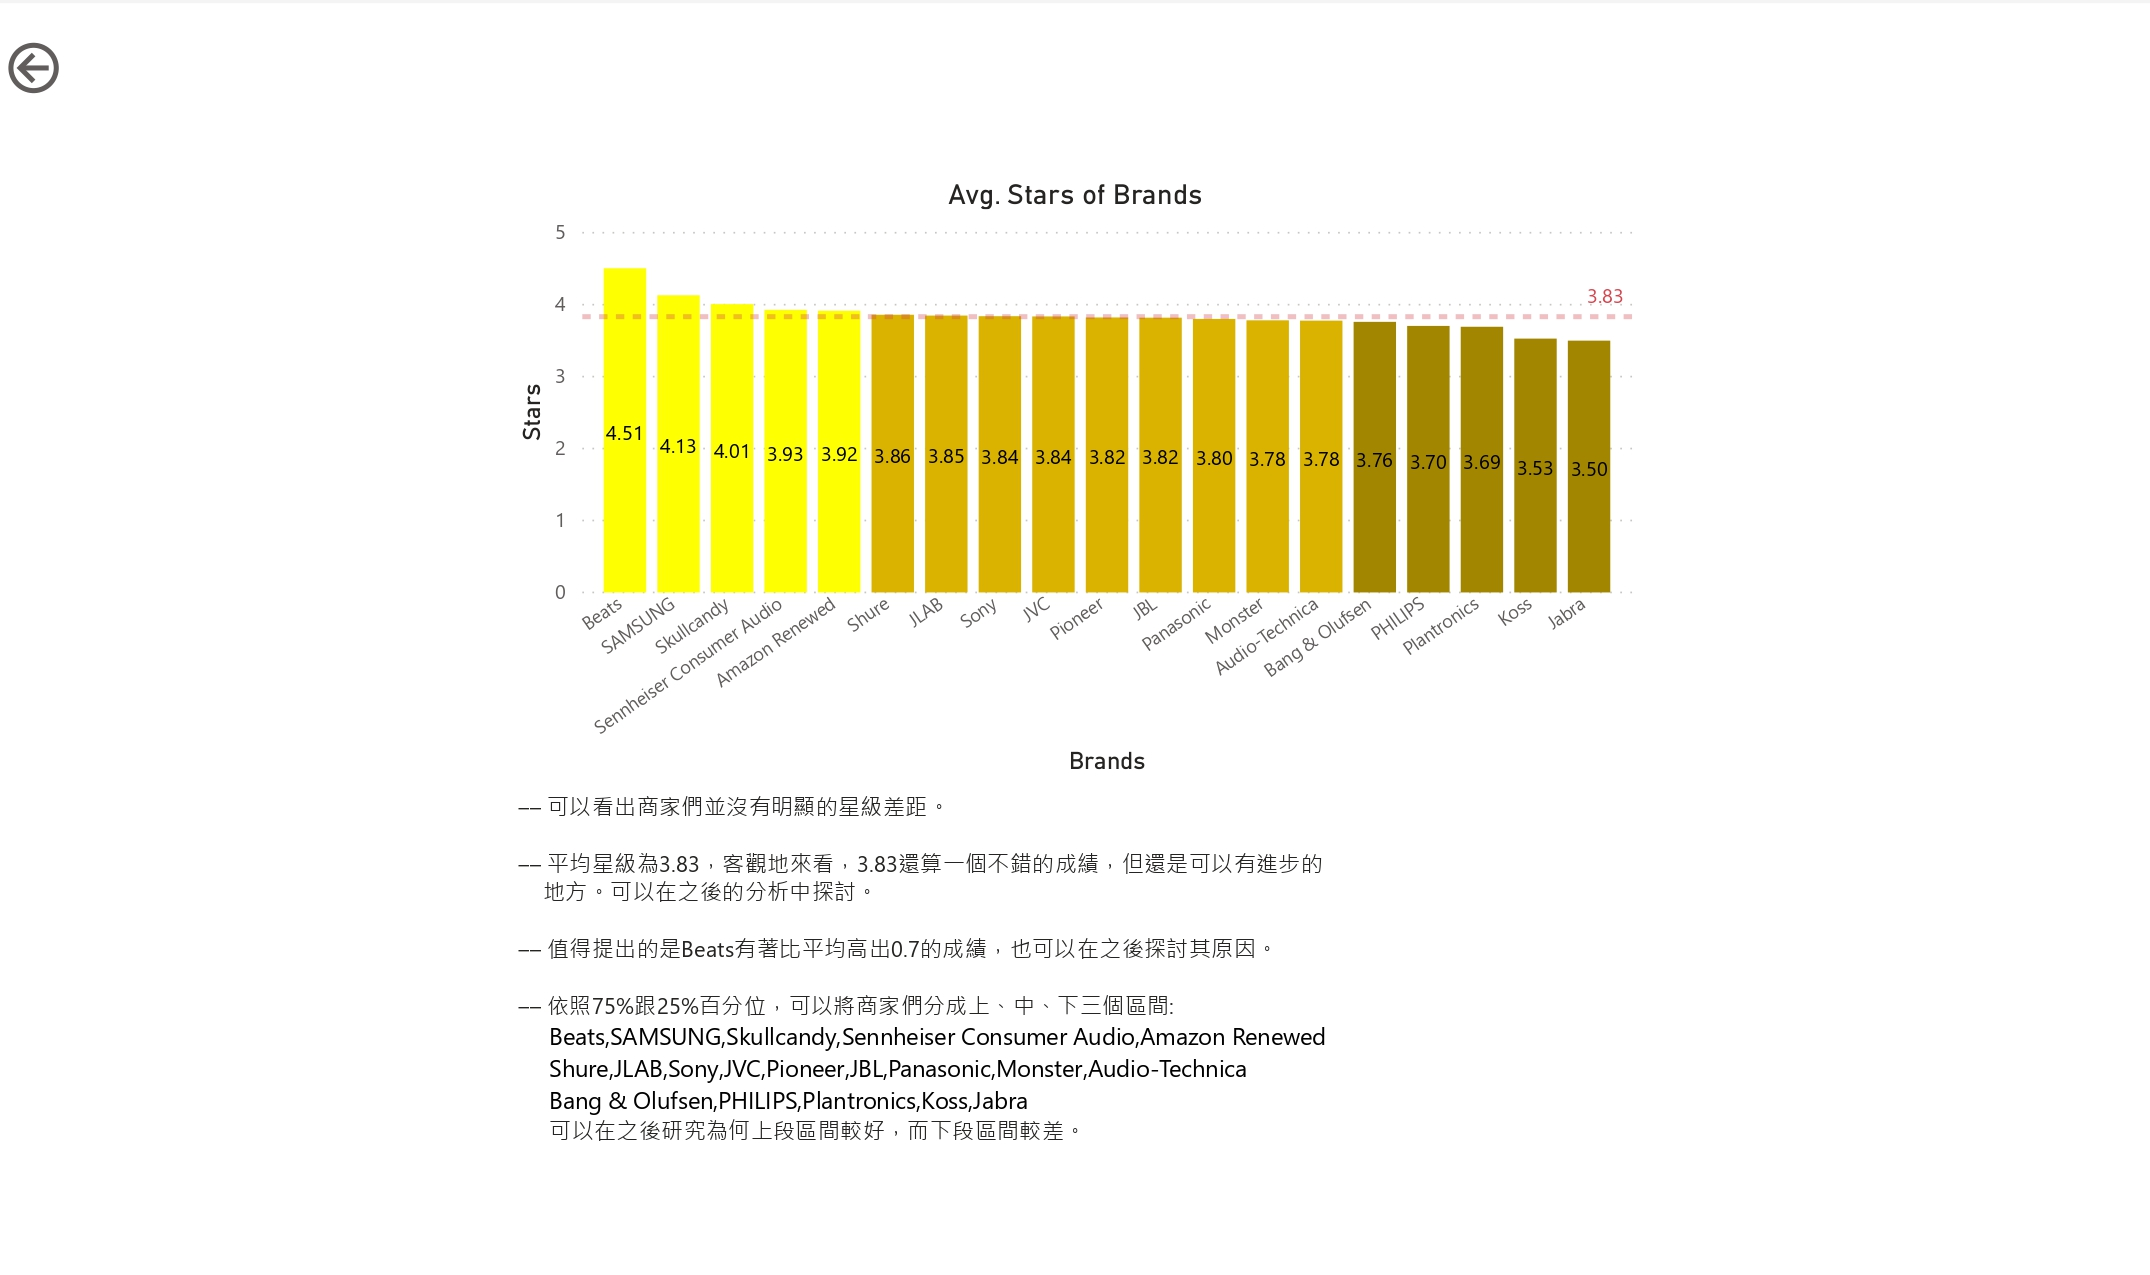

The dashboard page shown, as its layout file describes it:
{"tool":"powerbi","page":{"name":"Ratings","canvas":[1280,720],"ordinal":1},"visuals":[{"type":"columnChart","title":"Ratings per Brand''s Product","fields":{"Category":["Clean_Amazon_Earbuds (2).Brands"],"Y":["Avg(Clean_Amazon_Earbuds (2).Ratings)"]},"box":[244.4,159.4,790.8,360.4],"z":0},{"type":"textbox","box":[244.4,519.9,403.8,200.1],"z":1000}]}

Visuals, with their boxes on the page's 1280x720 design canvas (x1, y1, x2, y2). These are canvas units, not pixel positions in the 2150x1275 screenshot, which may show the page scaled, cropped or inside an application window:
"Ratings per Brand''s Product" columnChart: (x1=244, y1=159, x2=1035, y2=520)
textbox: (x1=244, y1=520, x2=648, y2=720)
